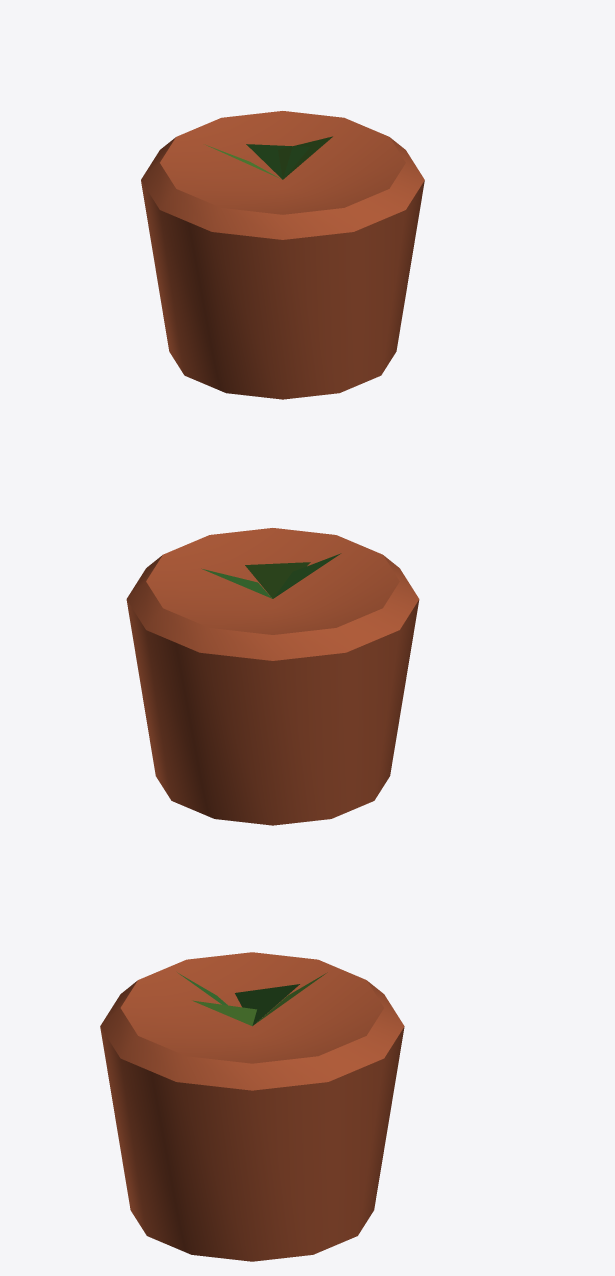
The model's file is little_fern.glb.
3 views of the same model, one above another, from view 1: azimuth 30°, elevation 25°; view 2: azimuth 150°, elevation 25°; view 3: azimuth 270°, elevation 25° (orthographic). The views are drawn at different scales.
Parts seen in each view (by area): view 1: furniture-little_fern; view 2: furniture-little_fern; view 3: furniture-little_fern.
Boxes of the visible parts, left/top/right/bottom form: furniture-little_fern: left=141, top=111, right=424, bottom=399; furniture-little_fern: left=126, top=528, right=419, bottom=825; furniture-little_fern: left=100, top=952, right=404, bottom=1261.
Bounding box in the file's own units: 0.6534 × 0.2909 × 0.5784.
